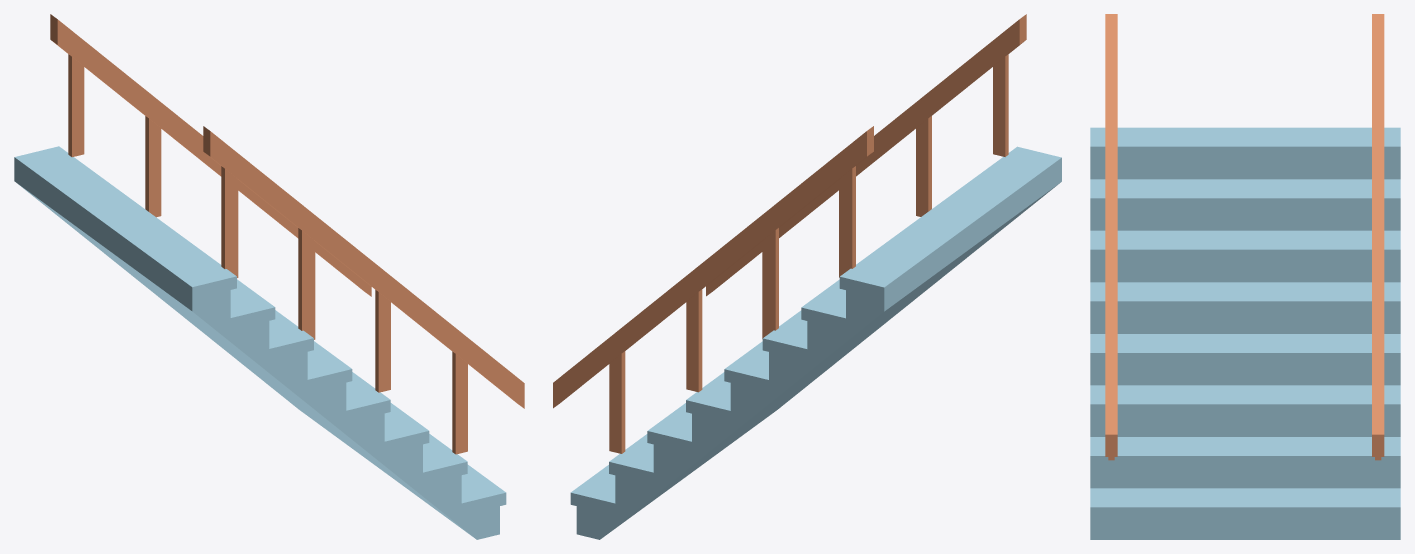
File: stairsWideStoneHandrail.glb
3 views of the same model, side by side, from view 1: azimuth 30°, elevation 25°; view 2: azimuth 150°, elevation 25°; view 3: azimuth 270°, elevation 25° (orthographic). The views are drawn at different scales.
Parts seen in each view (by area): view 1: stairsWideStoneHandrail, stairsWideStoneHandrail.001; view 2: stairsWideStoneHandrail, stairsWideStoneHandrail.001; view 3: stairsWideStoneHandrail, stairsWideStoneHandrail.001.
Part boxes in pixels (x1,y1,x2,y2): stairsWideStoneHandrail: [14, 146, 506, 539]; stairsWideStoneHandrail.001: [50, 14, 524, 454]; stairsWideStoneHandrail: [570, 146, 1061, 539]; stairsWideStoneHandrail.001: [553, 14, 1026, 453]; stairsWideStoneHandrail: [1090, 127, 1400, 539]; stairsWideStoneHandrail.001: [1105, 14, 1384, 460].
Size of the model in its own units: 3.32 by 4.34 by 3.
